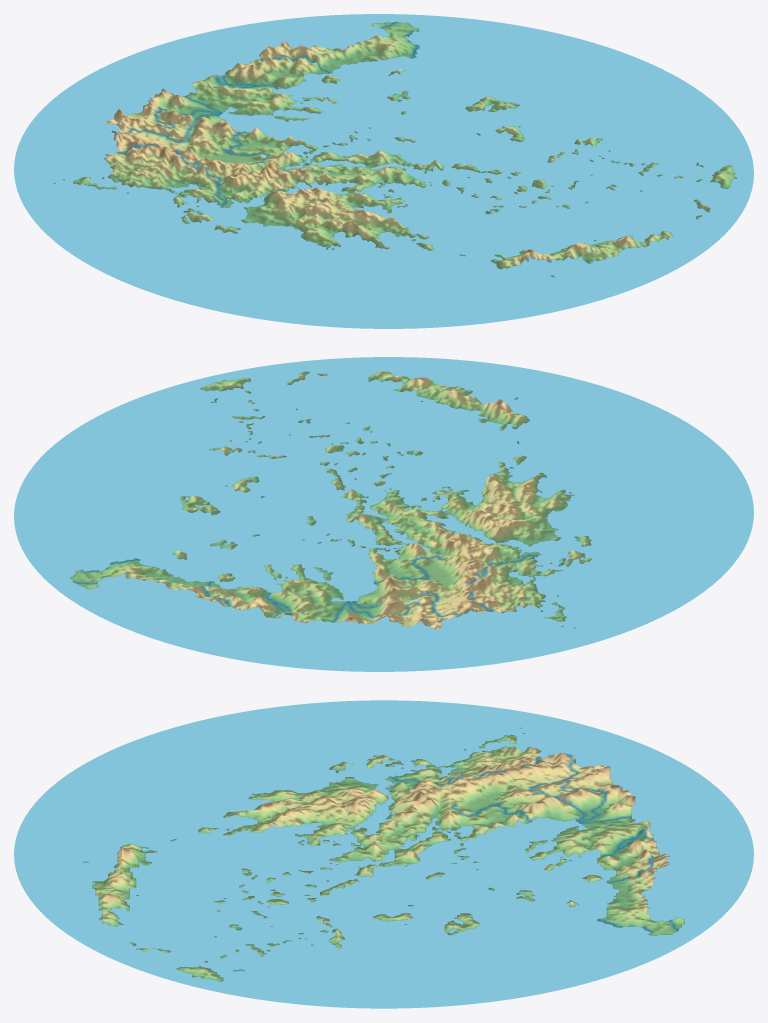
Rendered from GRC-terrain.glb.
3 renders of one model, top to bottom at view 1: azimuth 30°, elevation 25°; view 2: azimuth 150°, elevation 25°; view 3: azimuth 270°, elevation 25°, orthographic.
Parts seen in each view (by area): view 1: Relevo com hidrografia; view 2: Relevo com hidrografia; view 3: Relevo com hidrografia.
Boxes of the visible parts, x1,y1,x2,y2 form: Relevo com hidrografia: [14, 14, 753, 328]; Relevo com hidrografia: [14, 357, 753, 671]; Relevo com hidrografia: [14, 700, 753, 1008].
Size of the model in its own units: 1.69 by 0.0419 by 1.71.
2 materials, 1 textured.
